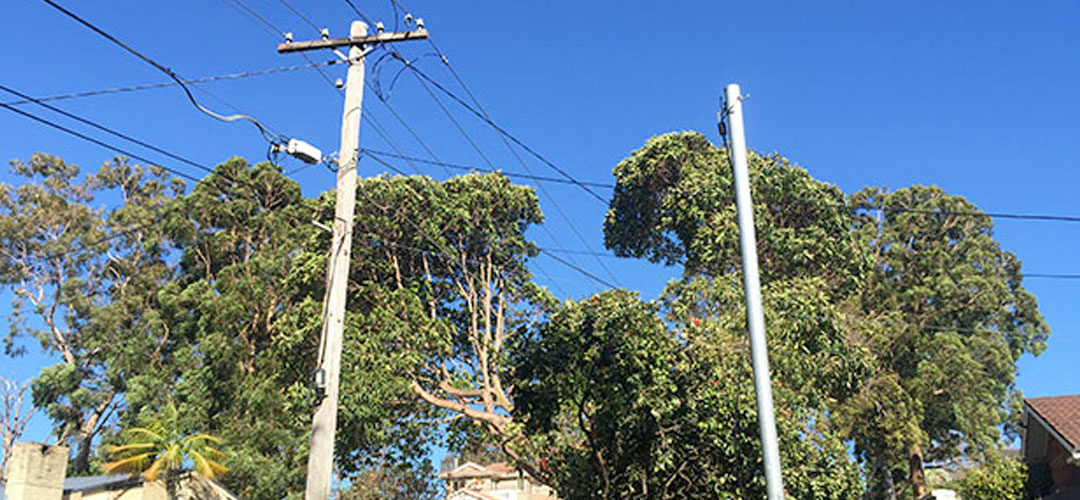utility_pole: (266, 7, 435, 119)
